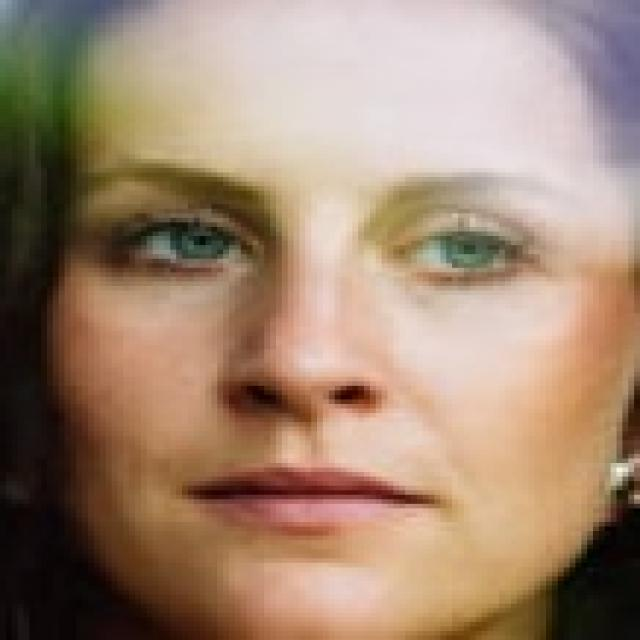Anxiety: (42, 0, 634, 635)
